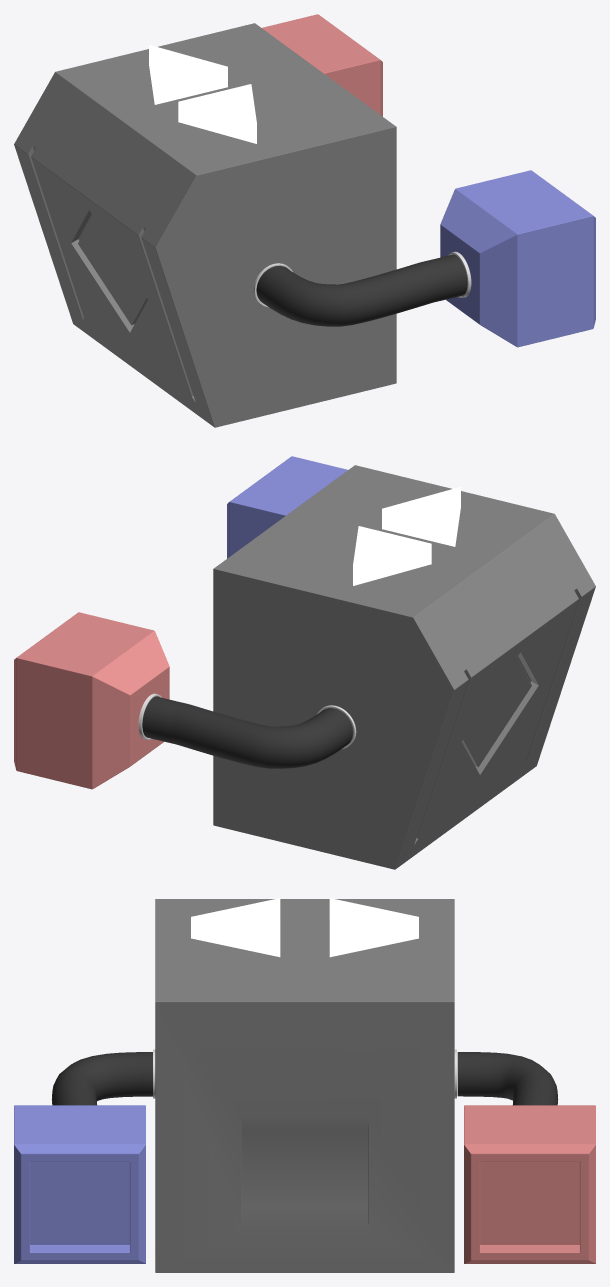
File: magnet box.glb
3 views of the same model, one above another, from view 1: azimuth 30°, elevation 25°; view 2: azimuth 150°, elevation 25°; view 3: azimuth 270°, elevation 25° (orthographic). The views are drawn at different scales.
Parts seen in each view (by area): view 1: Main Body, Magnet Cube 1, BezierCurve 1, Magnet Cube 2; view 2: Main Body, Magnet Cube 2, BezierCurve 2, Magnet Cube 1; view 3: Main Body, Magnet Cube 1, Magnet Cube 2, BezierCurve 2, BezierCurve 1.
Boxes of the visible parts, x1=… form: Main Body: x1=14, y1=23, x2=396, y2=427; Magnet Cube 1: x1=440, y1=170, x2=595, y2=347; BezierCurve 1: x1=256, y1=254, x2=467, y2=326; Magnet Cube 2: x1=262, y1=14, x2=382, y2=116; Main Body: x1=213, y1=465, x2=595, y2=869; Magnet Cube 2: x1=14, y1=612, x2=169, y2=789; BezierCurve 2: x1=142, y1=696, x2=352, y2=768; Magnet Cube 1: x1=227, y1=456, x2=347, y2=558; Main Body: x1=153, y1=898, x2=456, y2=1272; Magnet Cube 1: x1=14, y1=1105, x2=145, y2=1263; Magnet Cube 2: x1=464, y1=1105, x2=595, y2=1263; BezierCurve 2: x1=457, y1=1052, x2=558, y2=1105; BezierCurve 1: x1=51, y1=1052, x2=152, y2=1105.
Bounding box in the file's own units: 3.07 × 2.16 × 3.89.
